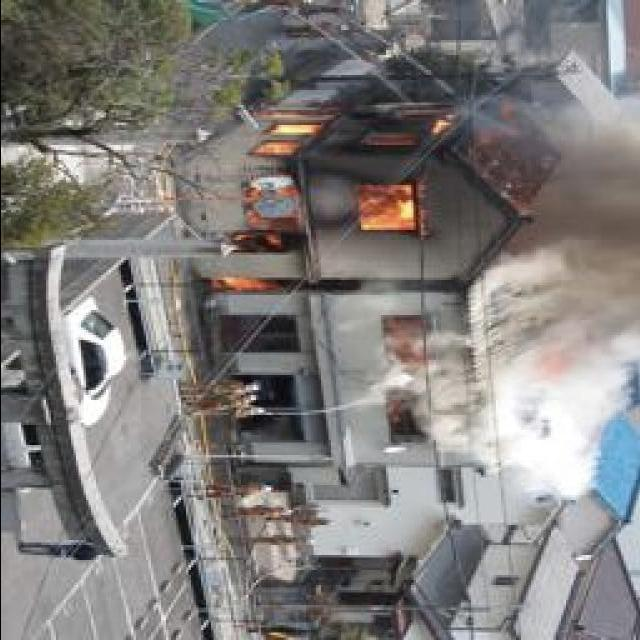Fire: (190, 98, 452, 306)
